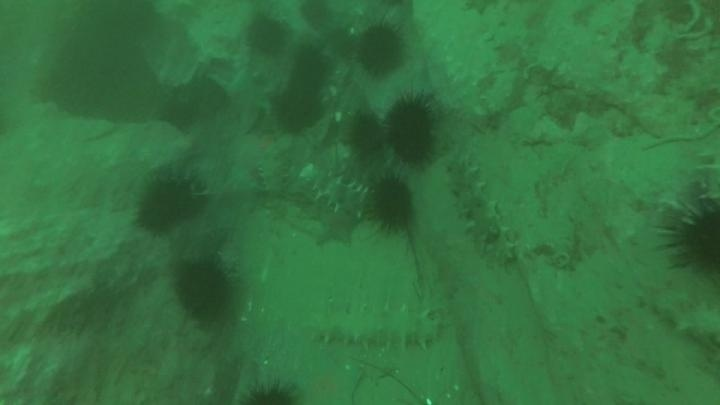echinus: (655, 195, 720, 278), (133, 169, 207, 235), (172, 255, 239, 325), (383, 94, 441, 167), (354, 21, 408, 78), (366, 174, 417, 233), (272, 86, 324, 134), (289, 44, 333, 92), (245, 13, 291, 58), (345, 110, 388, 157), (236, 377, 303, 405), (157, 93, 201, 133), (297, 0, 335, 29)
holothurian: (442, 157, 519, 267), (307, 302, 445, 353), (643, 284, 719, 347), (301, 164, 370, 219), (255, 140, 295, 199)
starfish: (290, 355, 366, 405), (299, 207, 363, 250)
